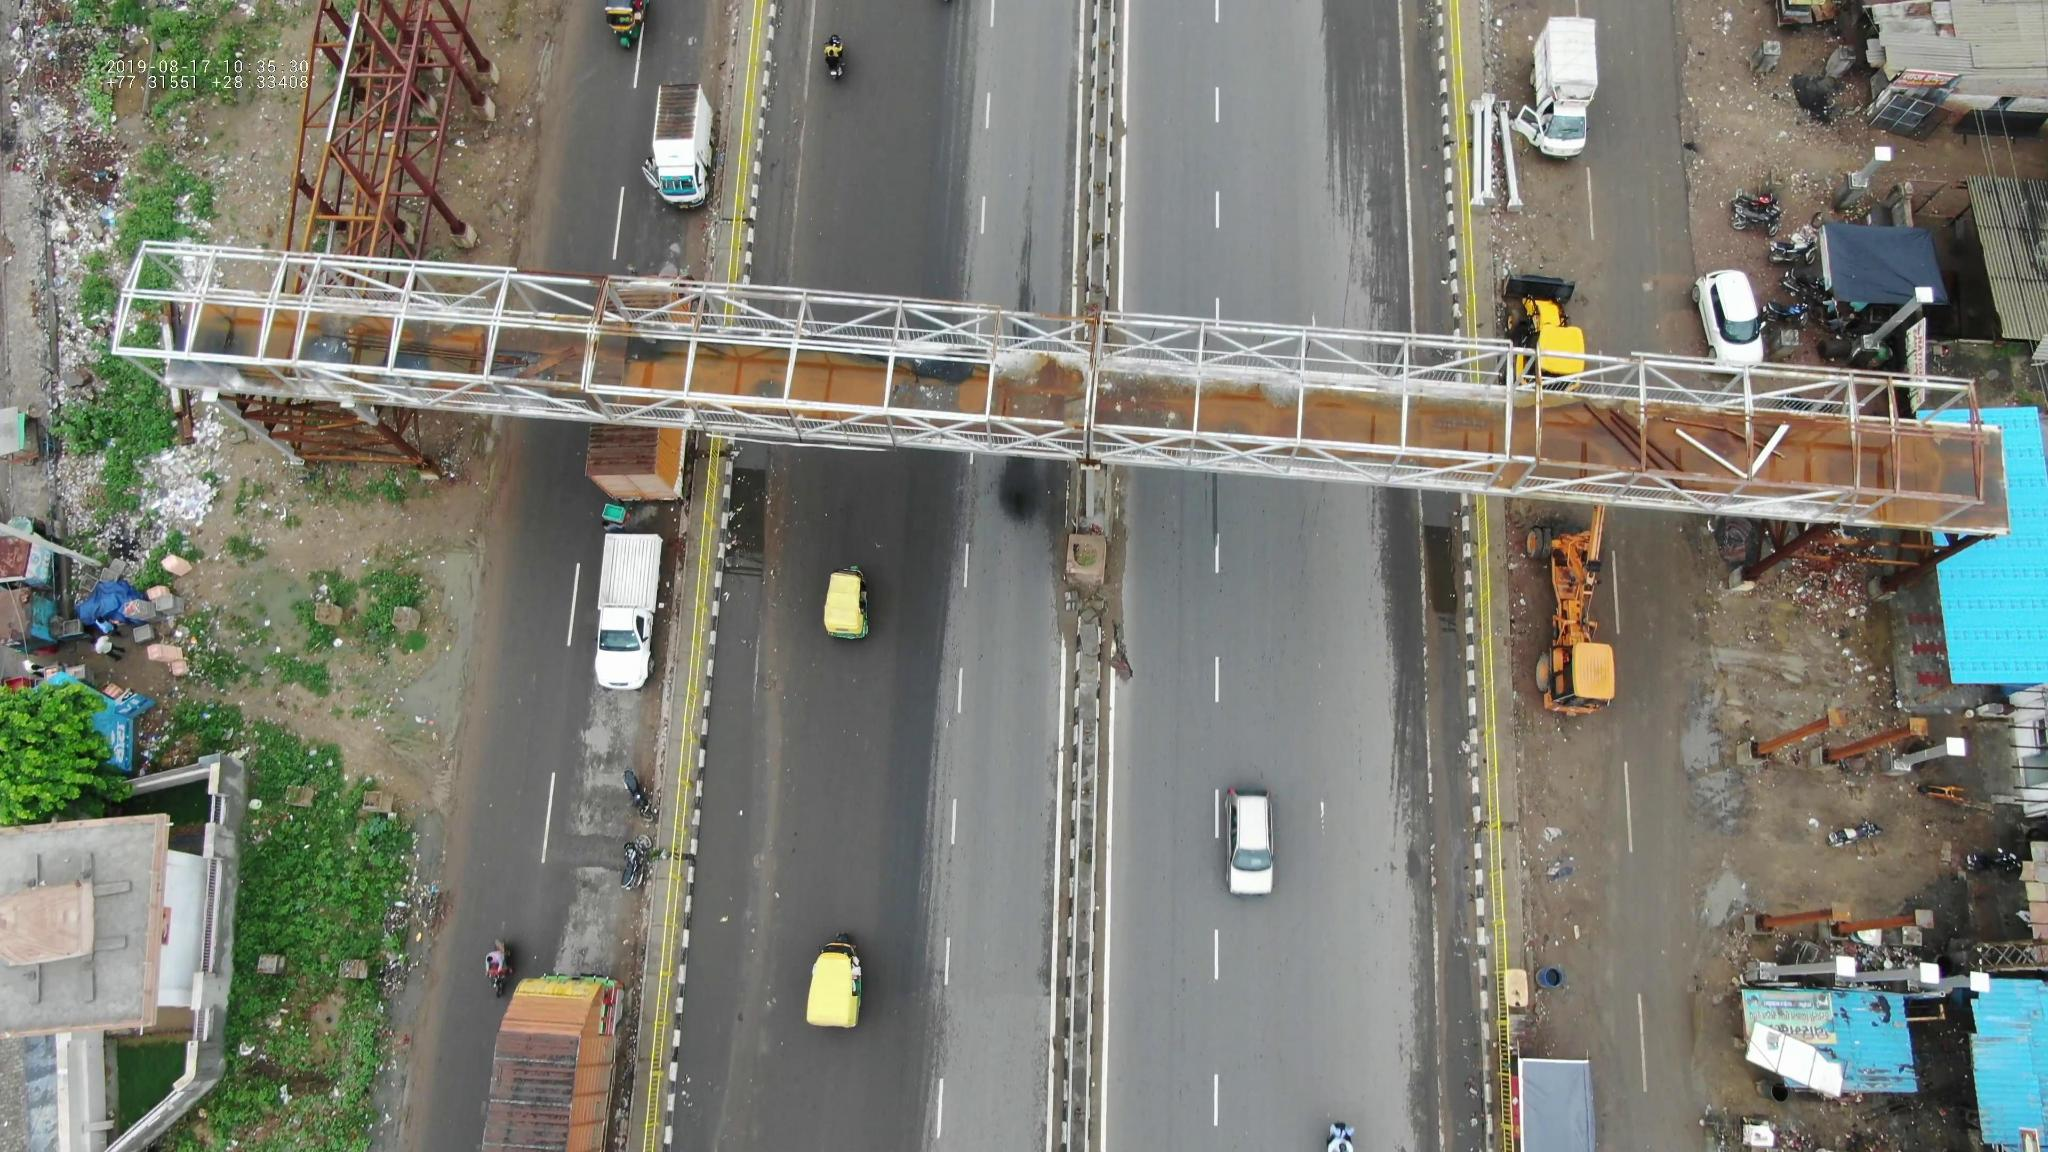Waterlogging: (686, 542, 771, 969), (1407, 502, 1473, 693), (1668, 684, 1753, 833), (1674, 854, 1753, 933)
